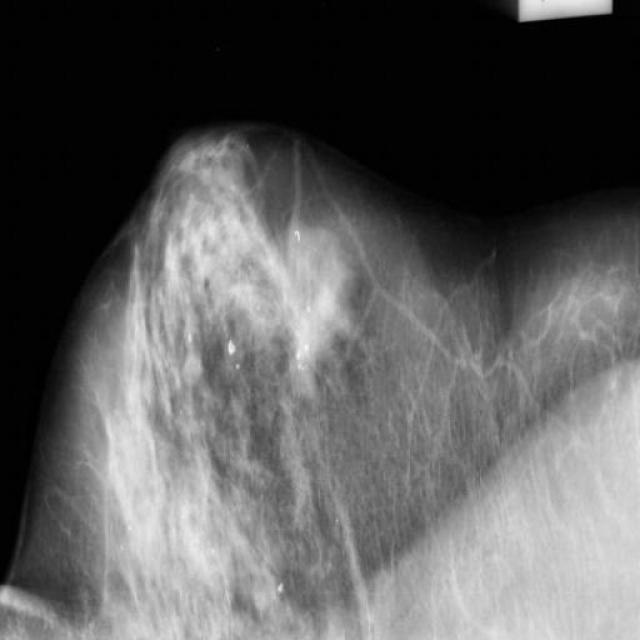cancer: (280, 220, 319, 284)
